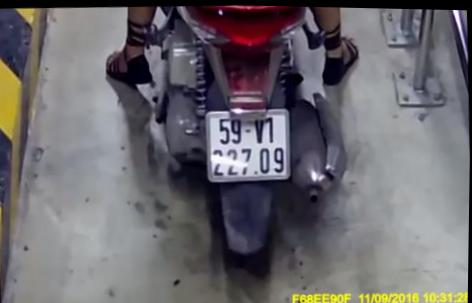LP: (205, 108, 293, 182)
